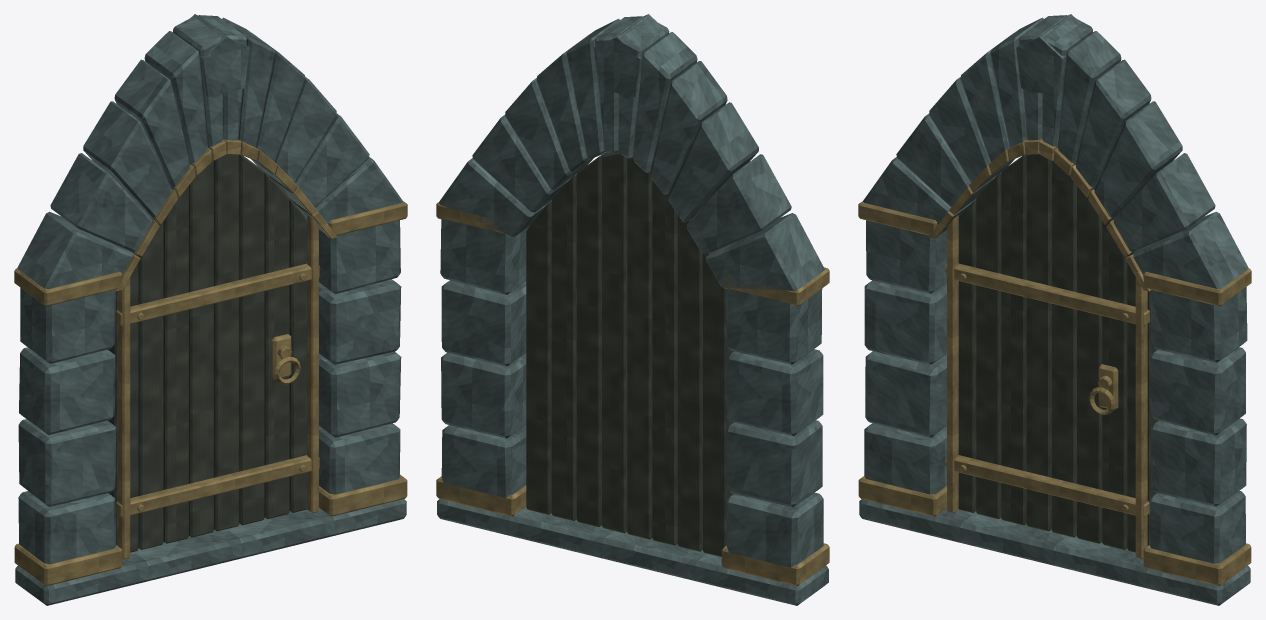
Rendered from chamber-door-v1.glb.
3 renders of one model, left to right at view 1: azimuth 30°, elevation 25°; view 2: azimuth 150°, elevation 25°; view 3: azimuth 330°, elevation 25°, orthographic.
Visible parts, largest first — view 1: DoorFrameSurface, DoorLeafSurface; view 2: DoorFrameSurface, DoorLeafSurface; view 3: DoorFrameSurface, DoorLeafSurface.
Part boxes in pixels (box(x1,y1,x2,y2)): DoorFrameSurface: box(14, 14, 407, 605); DoorLeafSurface: box(107, 154, 319, 559); DoorFrameSurface: box(436, 14, 829, 605); DoorLeafSurface: box(526, 151, 733, 556); DoorFrameSurface: box(858, 14, 1251, 605); DoorLeafSurface: box(945, 154, 1158, 559).
Size of the model in its own units: 1.3 by 1.8 by 0.2.
3 materials, 3 textured.
